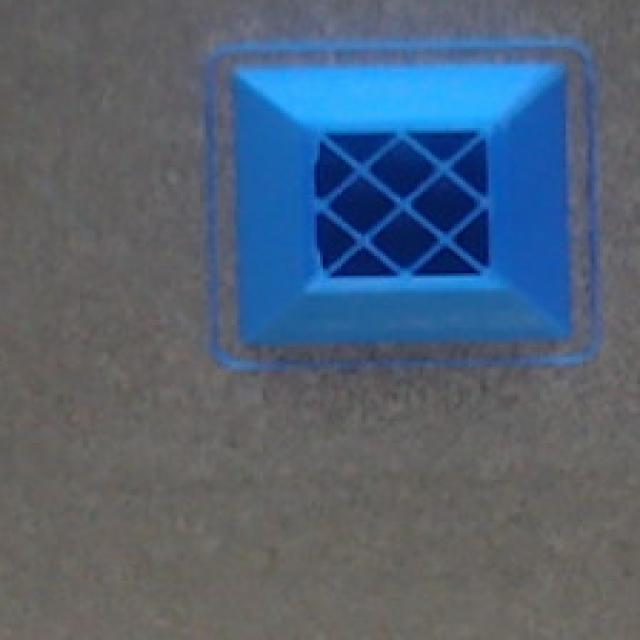noMistake: (209, 42, 597, 364)
